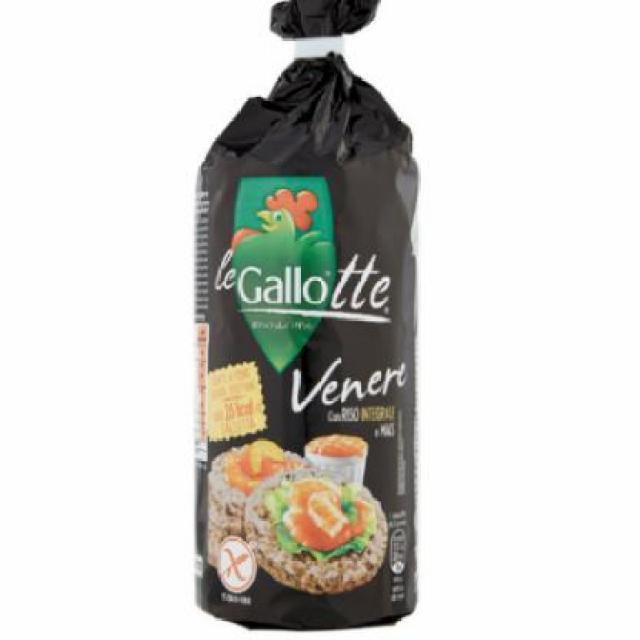Gallette di riso: (183, 16, 429, 632)
